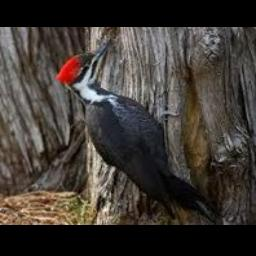Woodpecker: (54, 36, 216, 223)
